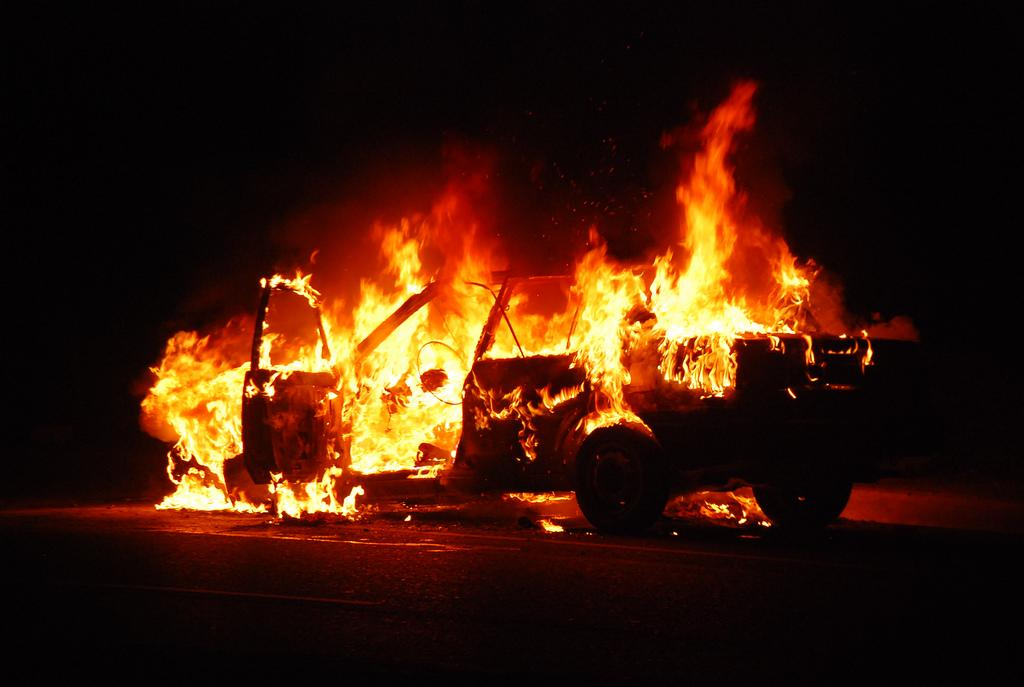fire: (350, 297, 460, 465), (153, 347, 248, 462), (677, 207, 738, 380), (572, 270, 633, 410)
